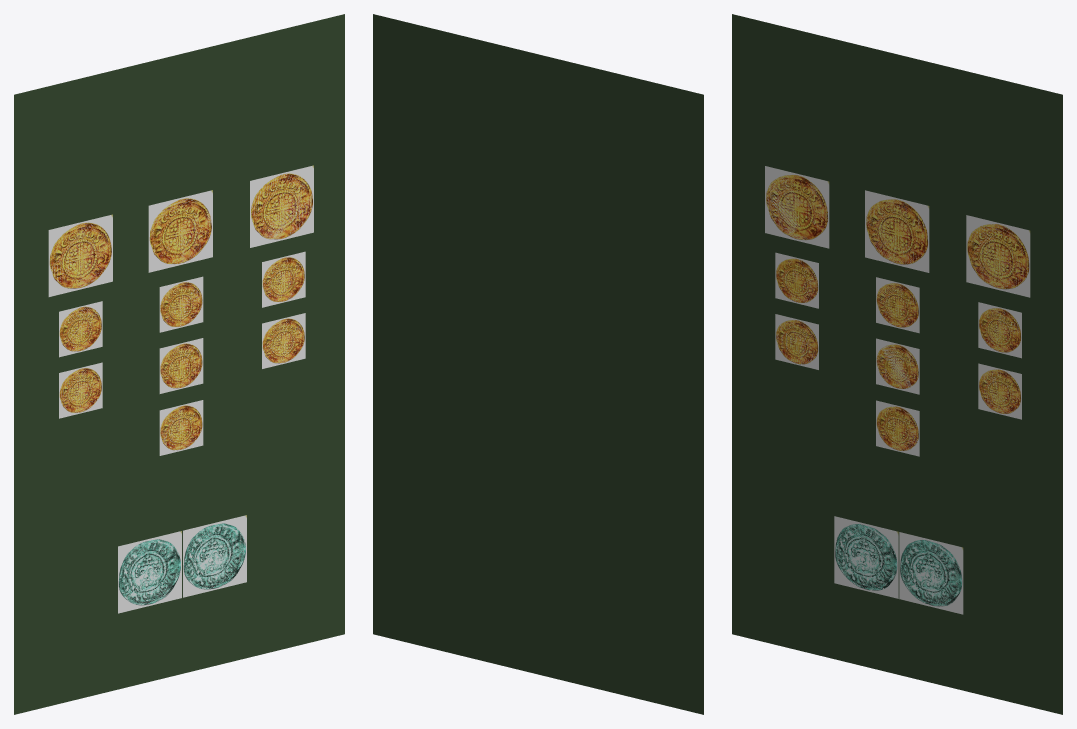
Rendered from MainMenuScene.dae.
3 renders of one model, left to right at view 1: azimuth 30°, elevation 25°; view 2: azimuth 150°, elevation 25°; view 3: azimuth 330°, elevation 25°, orthographic.
Visible parts, largest first — view 1: Board03, multiplayer (×2), singleplayer01, singleplayer04, singleplayer08, singleplayer05, singleplayer07, singleplayer06, singleplayer03, singleplayer02, singleplayer09, singleplayer10; view 2: Board03; view 3: Board03, multiplayer (×2), singleplayer04, singleplayer08, singleplayer01, singleplayer07, singleplayer02, singleplayer05, singleplayer06, singleplayer09, singleplayer10, singleplayer03.
Part boxes in pixels (<box>): Board03: <box>14,14,344,714</box>; multiplayer (×2): <box>118,515,246,613</box>; singleplayer01: <box>48,214,112,296</box>; singleplayer04: <box>148,190,212,272</box>; singleplayer08: <box>250,165,313,247</box>; singleplayer05: <box>159,276,203,332</box>; singleplayer07: <box>159,400,203,455</box>; singleplayer06: <box>159,338,203,393</box>; singleplayer03: <box>59,362,102,418</box>; singleplayer02: <box>59,301,102,357</box>; singleplayer09: <box>262,251,305,307</box>; singleplayer10: <box>262,313,305,368</box>; Board03: <box>373,14,703,714</box>; Board03: <box>732,14,1062,714</box>; multiplayer (×2): <box>834,516,963,614</box>; singleplayer04: <box>865,190,929,272</box>; singleplayer08: <box>966,215,1030,297</box>; singleplayer01: <box>765,166,829,248</box>; singleplayer07: <box>876,400,919,456</box>; singleplayer02: <box>775,252,818,308</box>; singleplayer05: <box>876,277,919,333</box>; singleplayer06: <box>876,338,919,394</box>; singleplayer09: <box>978,302,1021,358</box>; singleplayer10: <box>978,363,1021,419</box>; singleplayer03: <box>775,314,818,369</box>.
Size of the model in its own units: 35.99 by 0.15 by 64.44.
4 materials, 3 textured.
